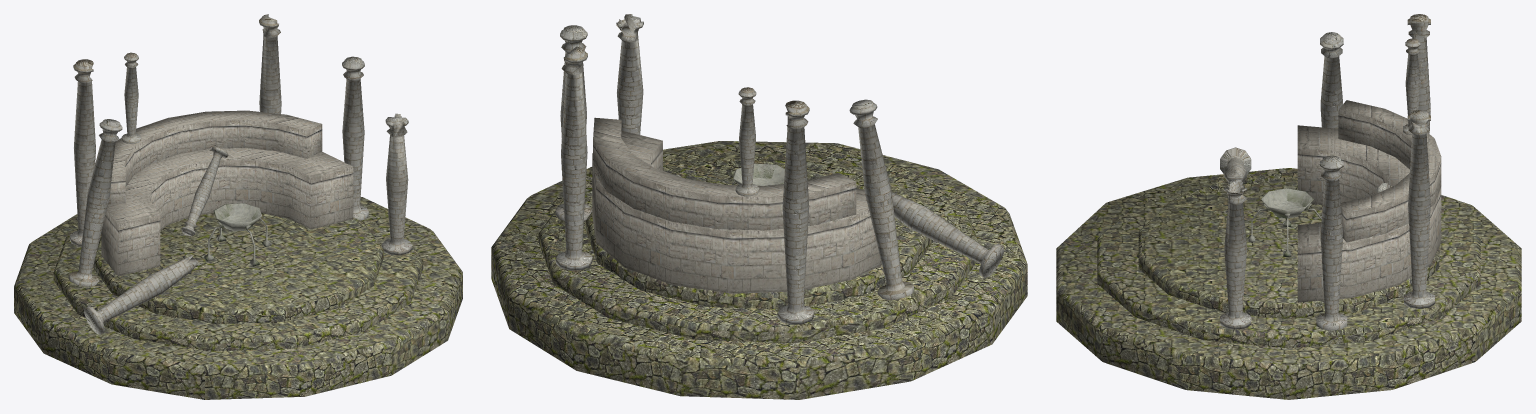
The model's file is Ruin_Temple1.glb.
3 views of the same model, side by side, from view 1: azimuth 30°, elevation 25°; view 2: azimuth 150°, elevation 25°; view 3: azimuth 270°, elevation 25° (orthographic). The views are drawn at different scales.
Parts seen in each view (by area): view 1: TempleRuinTwo300; view 2: TempleRuinTwo300; view 3: TempleRuinTwo300.
Part boxes in pixels (x1=…): TempleRuinTwo300: x1=14, y1=14, x2=462, y2=399; TempleRuinTwo300: x1=491, y1=14, x2=1027, y2=399; TempleRuinTwo300: x1=1056, y1=14, x2=1521, y2=399.
Size of the model in its own units: 11 by 5.94 by 10.72.
4 materials, 4 textured.
